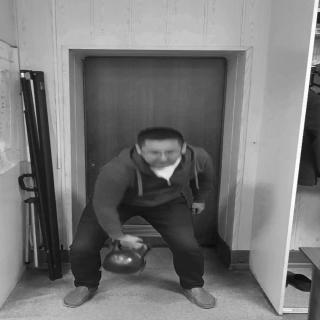kettlebell: (103, 242, 151, 277)
